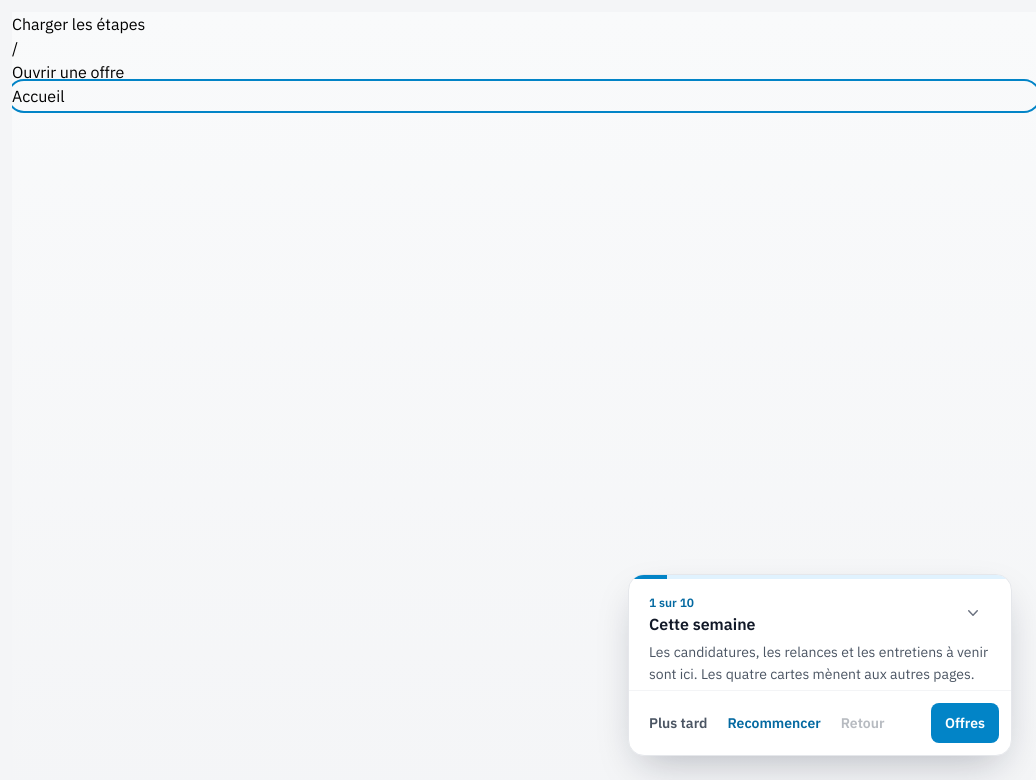
Test: OnboardingTour › recommence le test admin depuis la première étape
This screenshot has width=1036, height=780.
Expected: the text with test id "path" reads "/", [12,38,18,58]
Click the button "Offres": (965, 723) [931,703,999,743]
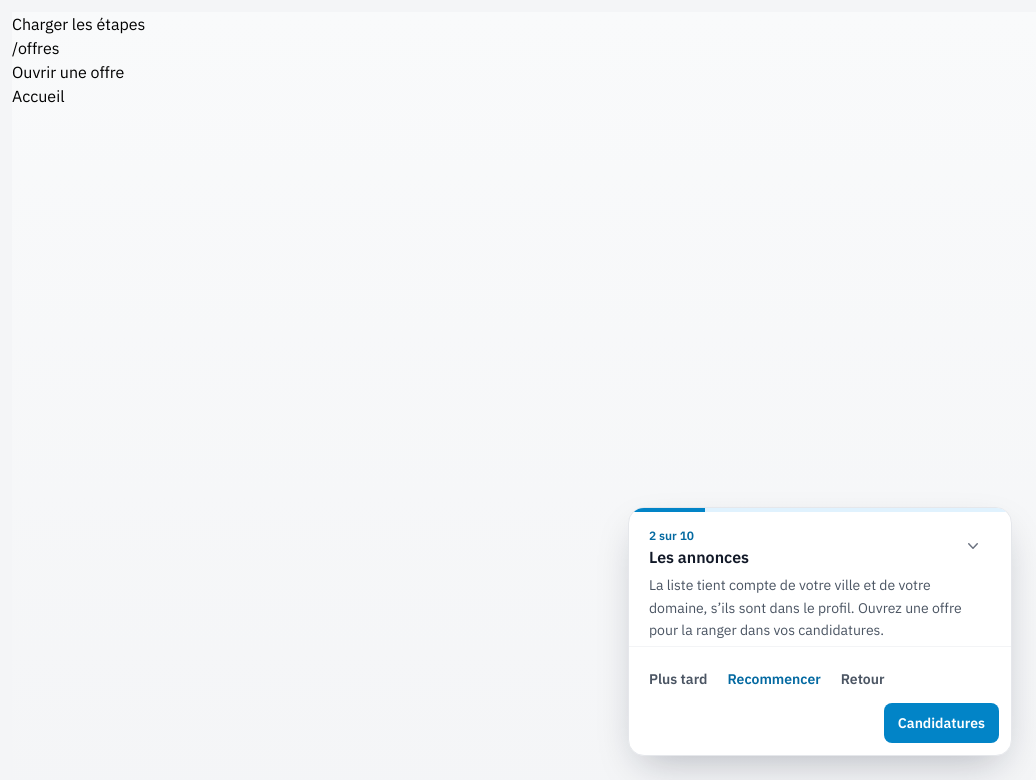
Now the heading "Les annonces" is shown, box [649,546,749,568]
Click the button "Recommencer": (774, 679) [720,659,829,699]
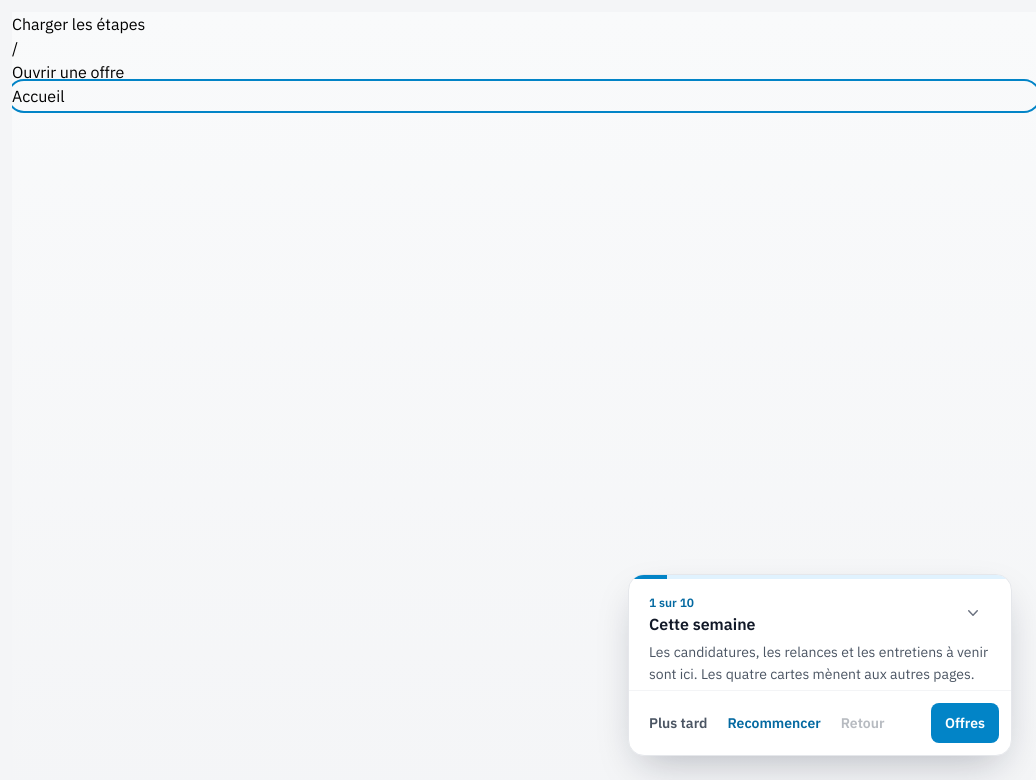
Expected: the text with test id "path" reads "/", [12,38,18,58]
Now the heading "Cette semaine" is shown, box [649,612,756,634]
